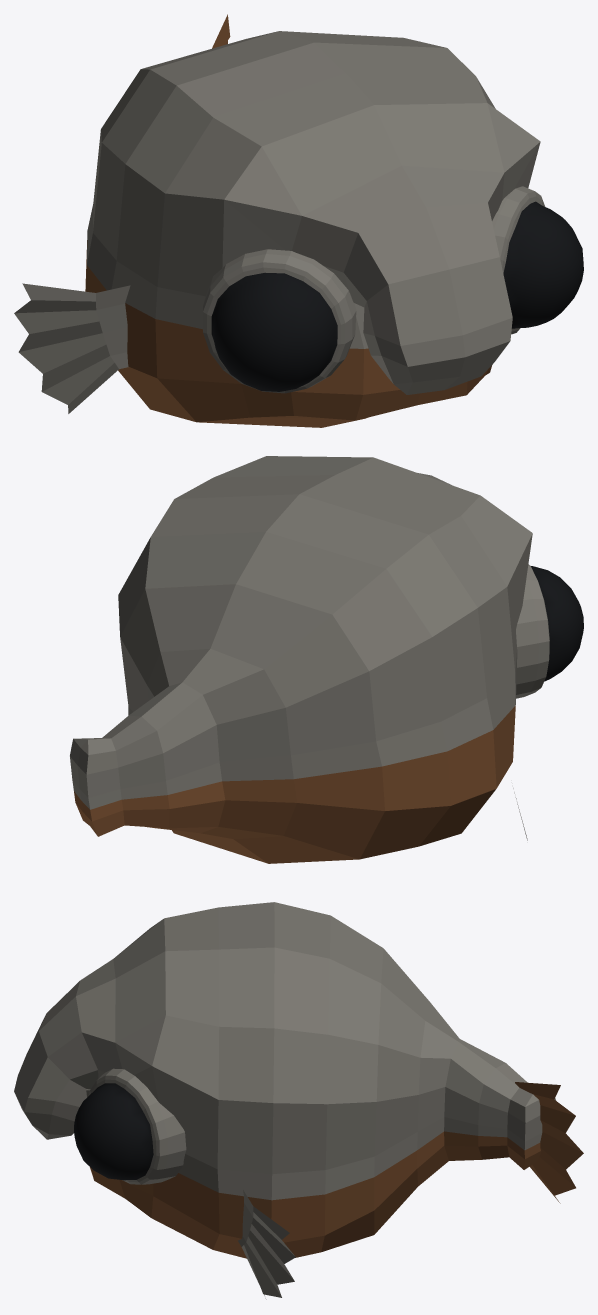
Rendered from cc0-blobfish-lod0.glb.
3 renders of one model, top to bottom at view 1: azimuth 30°, elevation 25°; view 2: azimuth 150°, elevation 25°; view 3: azimuth 270°, elevation 25°, orthographic. The views are drawn at different scales.
Visible parts, largest first — view 1: part_0; view 2: part_0; view 3: part_0.
Boxes of the visible parts, x1,y1,x2,y2 form: part_0: (14, 14, 583, 427); part_0: (70, 456, 583, 863); part_0: (14, 902, 583, 1299).
Size of the model in its own units: 3.4 by 2.37 by 4.24.
